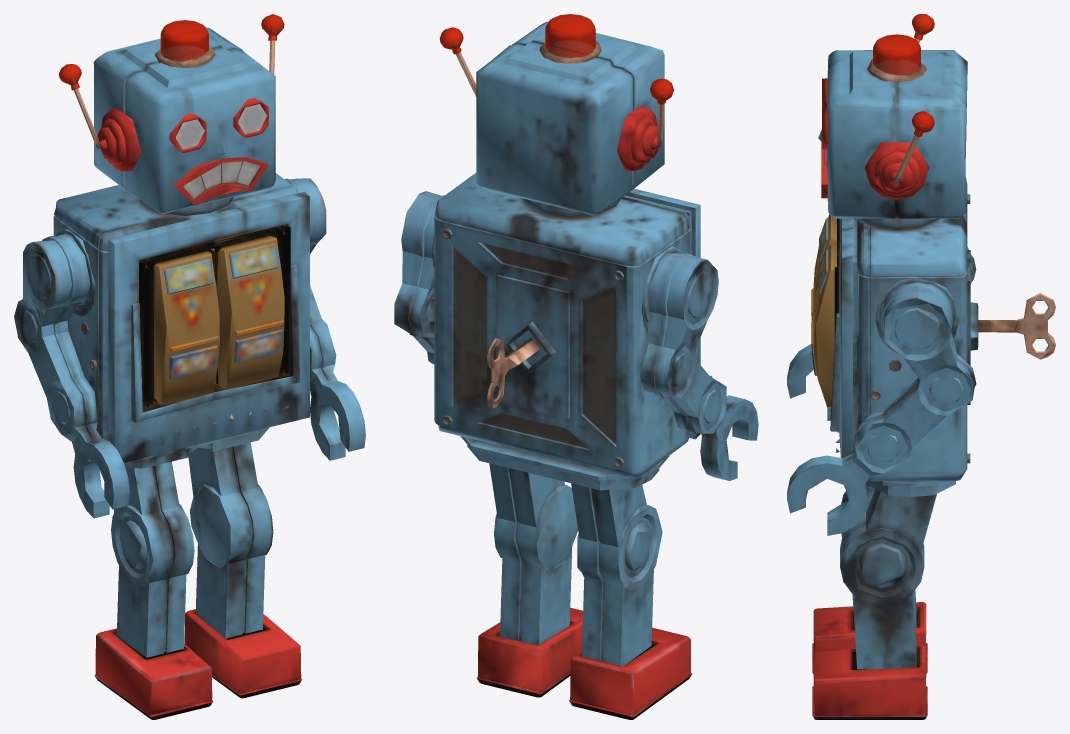
Rendered from hw_pop_robby.glb.
The picture shows the model from 3 angles, left to right: view 1: azimuth 30°, elevation 25°; view 2: azimuth 150°, elevation 25°; view 3: azimuth 270°, elevation 25°; orthographic projection. The views are drawn at different scales.
Parts seen in each view (by area): view 1: defaultMaterial2, defaultMaterial; view 2: defaultMaterial2, defaultMaterial; view 3: defaultMaterial2, defaultMaterial.
Part boxes in pixels (<box>): defaultMaterial2: <box>14,27,365,719</box>; defaultMaterial: <box>59,14,284,149</box>; defaultMaterial2: <box>394,21,758,719</box>; defaultMaterial: <box>439,14,673,104</box>; defaultMaterial2: <box>787,27,1055,719</box>; defaultMaterial: <box>873,14,934,136</box>.
Size of the model in its own units: 0.8806 by 2 by 0.7585.
Materials: 2 (2 with a texture image).
